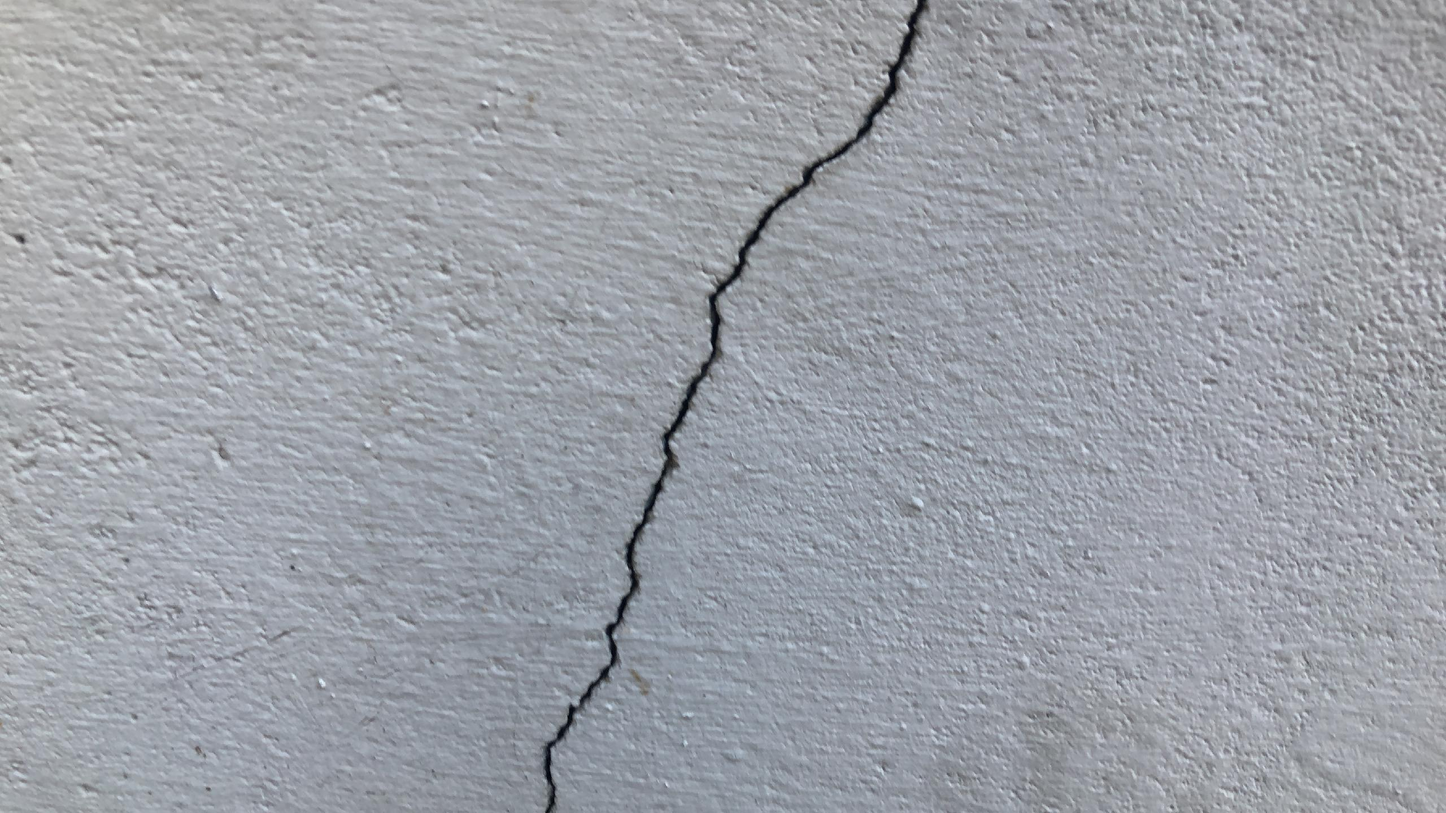crack: (543, 0, 930, 811)
